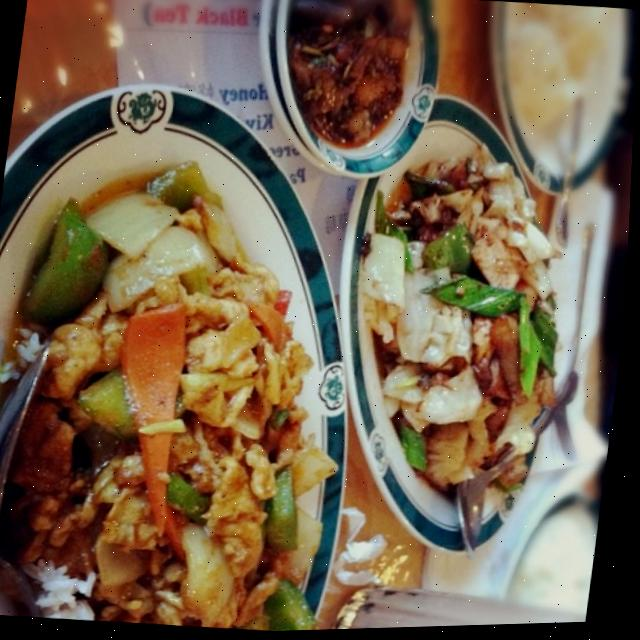猪肉菜式: (0, 103, 418, 640)
